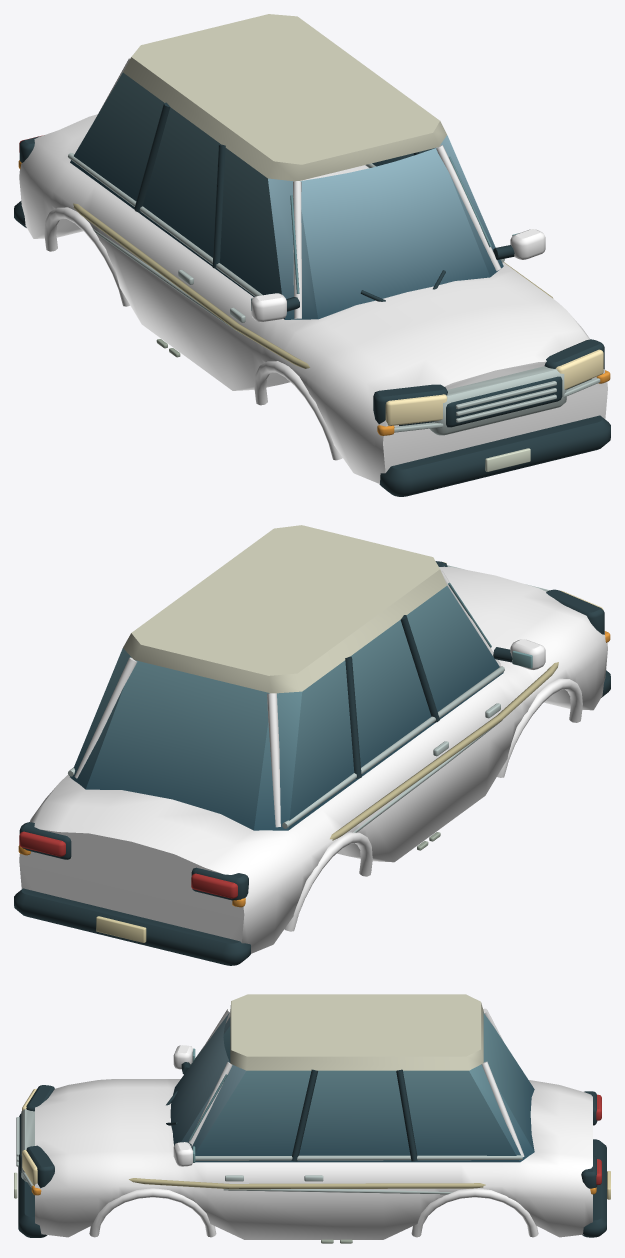
Rendered from orion.glb.
The picture shows the model from 3 angles, top to bottom: view 1: azimuth 30°, elevation 25°; view 2: azimuth 150°, elevation 25°; view 3: azimuth 270°, elevation 25°; orthographic projection. The views are drawn at different scales.
Visible parts, largest first — view 1: Chassis, Headlamps; view 2: Chassis, BrakeLamps; view 3: Chassis, Headlamps.
Part boxes in pixels (x1,y1,x2,y2): Chassis: (14,14,610,496); Headlamps: (385,349,603,425); Chassis: (14,525,610,965); BrakeLamps: (19,831,237,898); Chassis: (14,994,610,1243); Headlamps: (22,1089,37,1186).
Size of the model in its own units: 1.91 by 1.42 by 4.43.
